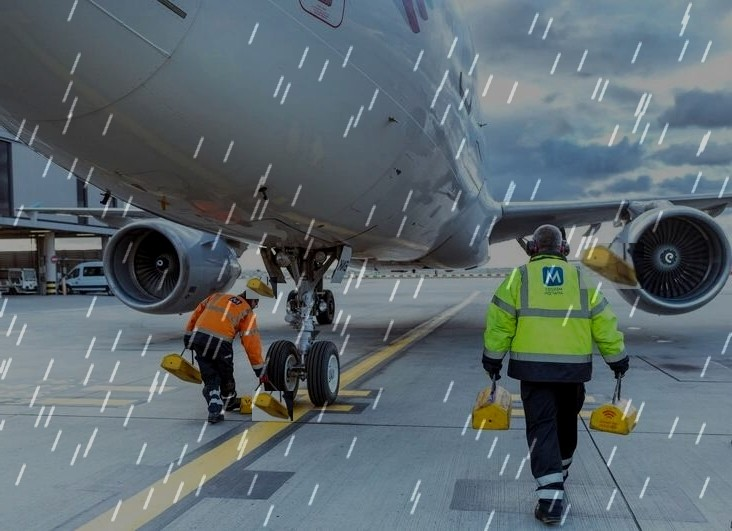chock: (580, 243, 644, 289), (587, 394, 642, 437), (469, 380, 511, 434), (160, 352, 207, 386), (252, 391, 293, 421), (238, 394, 293, 416), (246, 277, 277, 299)
wheel: (306, 339, 341, 407), (265, 339, 302, 401), (316, 289, 336, 324), (287, 289, 300, 309)
